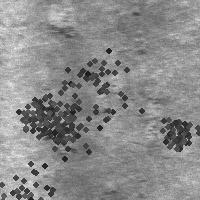rolled-in_scale: (33, 23, 153, 143), (10, 62, 118, 170), (87, 77, 169, 154), (0, 140, 78, 200), (28, 78, 81, 161), (9, 85, 67, 143), (33, 102, 85, 154), (151, 105, 200, 157), (45, 14, 85, 37)
